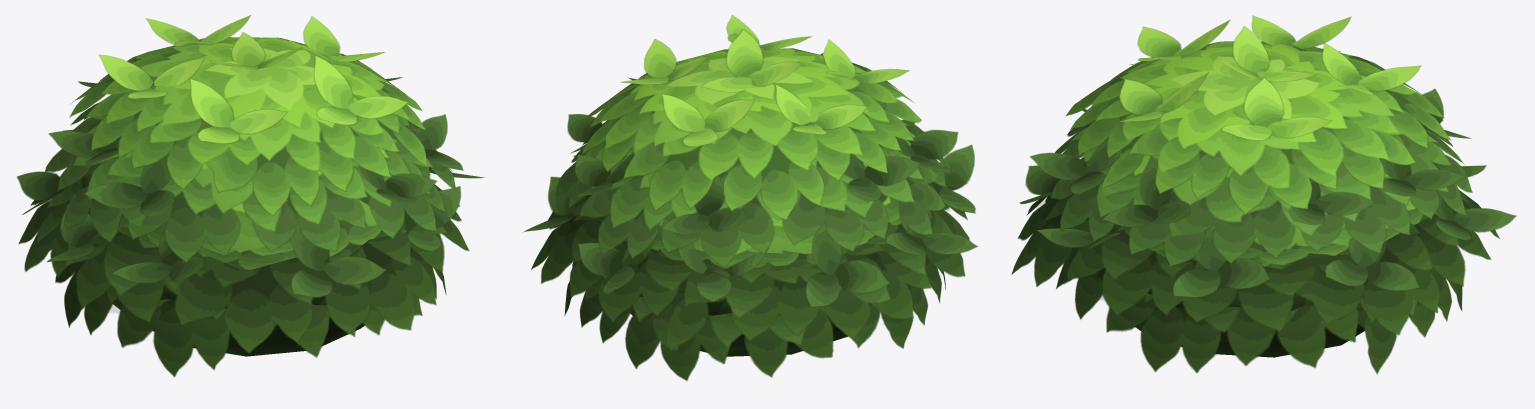
The model's file is bush.glb.
The picture shows the model from 3 angles, left to right: view 1: azimuth 30°, elevation 25°; view 2: azimuth 150°, elevation 25°; view 3: azimuth 270°, elevation 25°; orthographic projection. The views are drawn at different scales.
Visible parts, largest first — view 1: stylized bush; view 2: stylized bush; view 3: stylized bush.
Part boxes in pixels (box(x1,y1,x2,y2)): stylized bush: box(16, 15, 484, 377); stylized bush: box(523, 15, 977, 380); stylized bush: box(1011, 15, 1516, 374).
Size of the model in its own units: 1.51 by 0.9624 by 1.58.
Materials: 1 (1 with a texture image).
